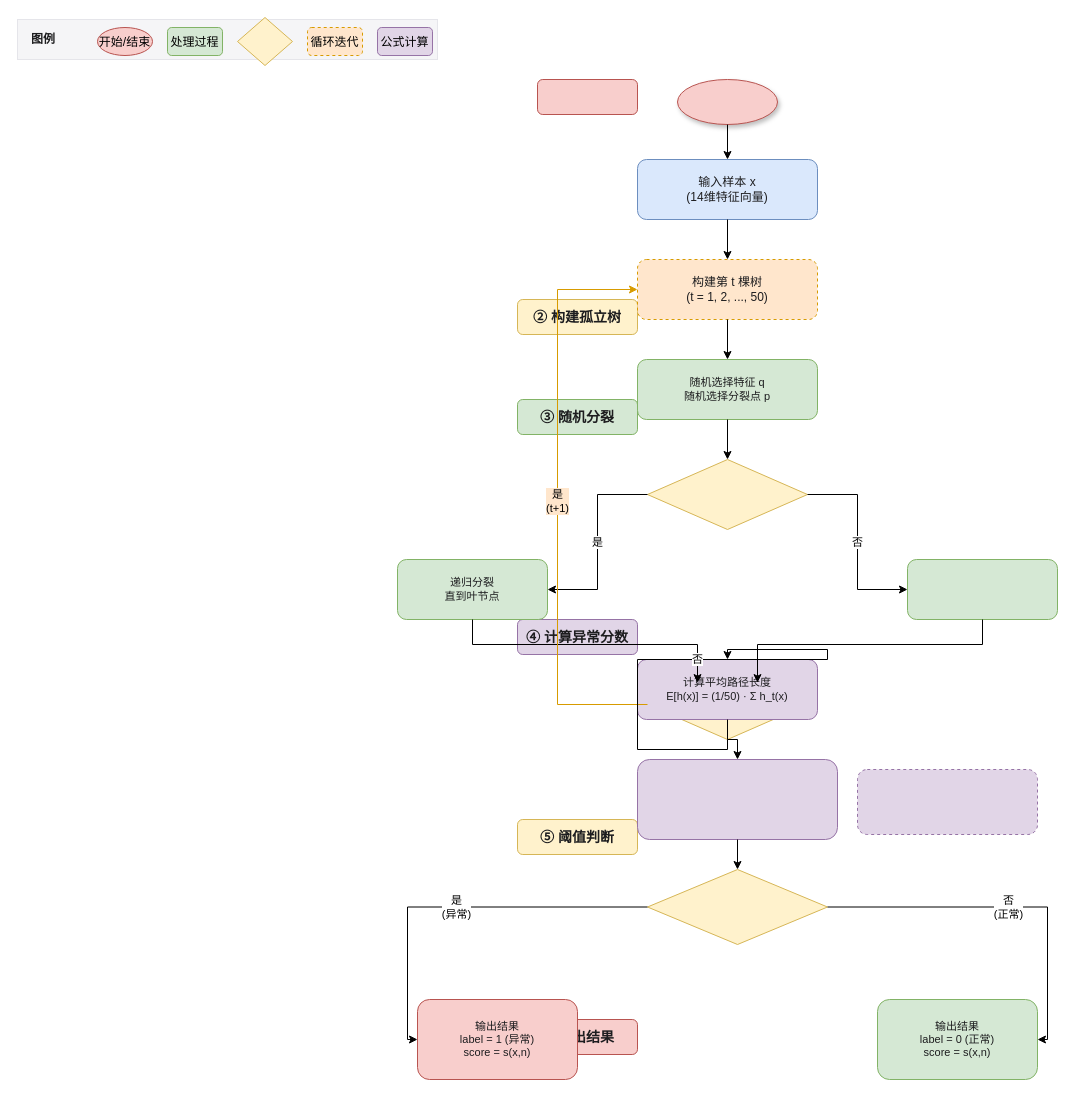
Image size: 1075x1097. Some labels were removed from this diagram. The shapes that lost their labels are listed below. From the top down, each one's centre as x and y in pixels, then its label:
point 264,41: 决策判断
point 587,96: ① 开始
point 728,103: 开始推理
point 727,494: x_q < p ?
point 982,589: 记录路径长度 h_t(x)
point 737,799: 异常分数公式 s(x,n) = 2^(-E[h(x)] / c(n)) c(n) = 2·ln(n-1) + ξ
point 947,801: 注：c(n) 为二叉树平均路径 长度期望，ξ ≈ 0.5772 (欧拉常数)
point 737,906: s(x,n) > θ ? (阈值 θ = 0.7)
